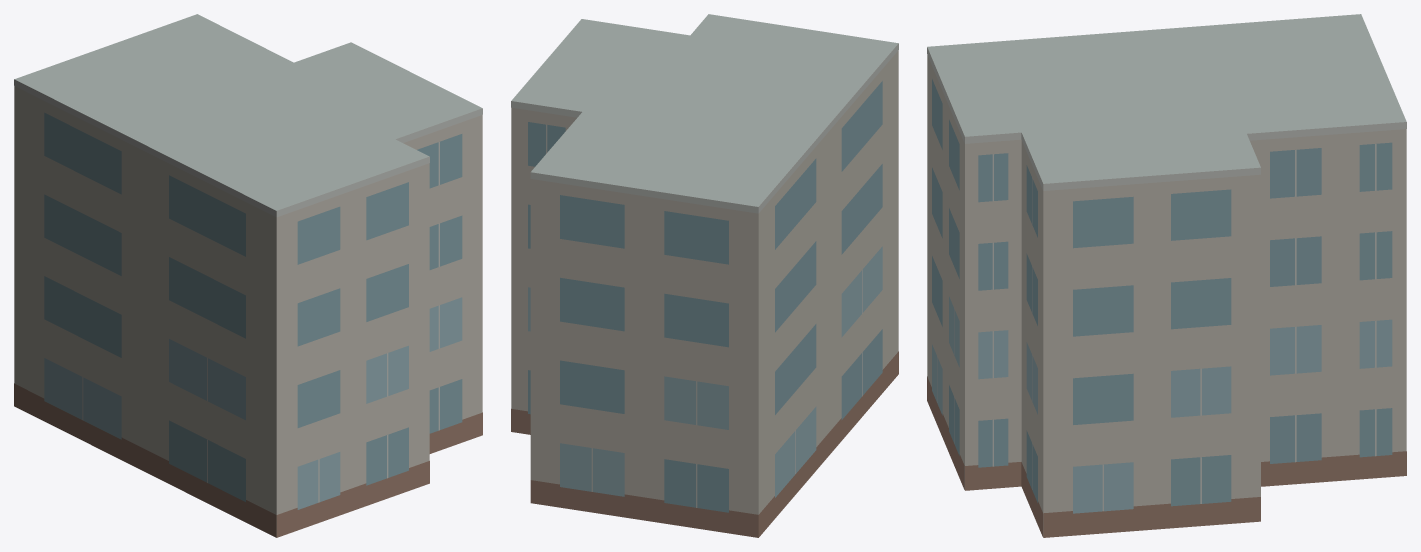
The model's file is residential-c7907b8d-d135-45bb-8a99-438dcbc0cd2b.glb.
3 renders of one model, left to right at view 1: azimuth 30°, elevation 25°; view 2: azimuth 150°, elevation 25°; view 3: azimuth 270°, elevation 25°, orthographic. The views are drawn at different scales.
Parts seen in each view (by area): view 1: residential-c7907b8d-d135-45bb-8a99-438dcbc0cd2b.tmp; view 2: residential-c7907b8d-d135-45bb-8a99-438dcbc0cd2b.tmp; view 3: residential-c7907b8d-d135-45bb-8a99-438dcbc0cd2b.tmp.
Boxes of the visible parts, bbox=[...] form: residential-c7907b8d-d135-45bb-8a99-438dcbc0cd2b.tmp: bbox=[14, 14, 482, 537]; residential-c7907b8d-d135-45bb-8a99-438dcbc0cd2b.tmp: bbox=[511, 14, 898, 537]; residential-c7907b8d-d135-45bb-8a99-438dcbc0cd2b.tmp: bbox=[927, 14, 1406, 537].
Size of the model in its own units: 12.57 by 12.2 by 15.
